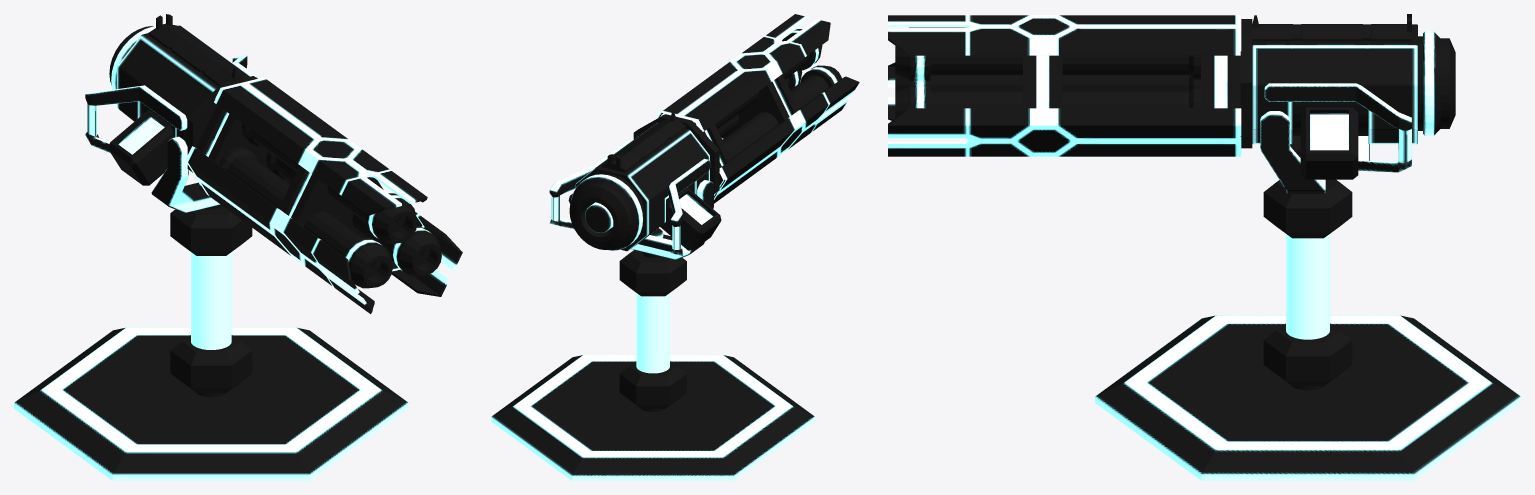
File: Gun.fbx
3 renders of one model, left to right at view 1: azimuth 30°, elevation 25°; view 2: azimuth 150°, elevation 25°; view 3: azimuth 270°, elevation 25°, orthographic. The views are drawn at different scales.
Visible parts, largest first — view 1: Cylinder.002, Cylinder.001, Cylinder.003; view 2: Cylinder.002, Cylinder.001, Cylinder.003; view 3: Cylinder.002, Cylinder.001, Cylinder.003.
Boxes of the visible parts, x1,y1,x2,y2 form: Cylinder.002: [14, 136, 408, 480]; Cylinder.001: [185, 77, 462, 313]; Cylinder.003: [85, 14, 259, 185]; Cylinder.002: [491, 180, 815, 480]; Cylinder.001: [657, 14, 859, 203]; Cylinder.003: [549, 112, 721, 255]; Cylinder.002: [1095, 111, 1520, 480]; Cylinder.001: [888, 15, 1241, 156]; Cylinder.003: [1240, 14, 1455, 179].
Bounding box in the file's own units: 361 × 419 × 620.
